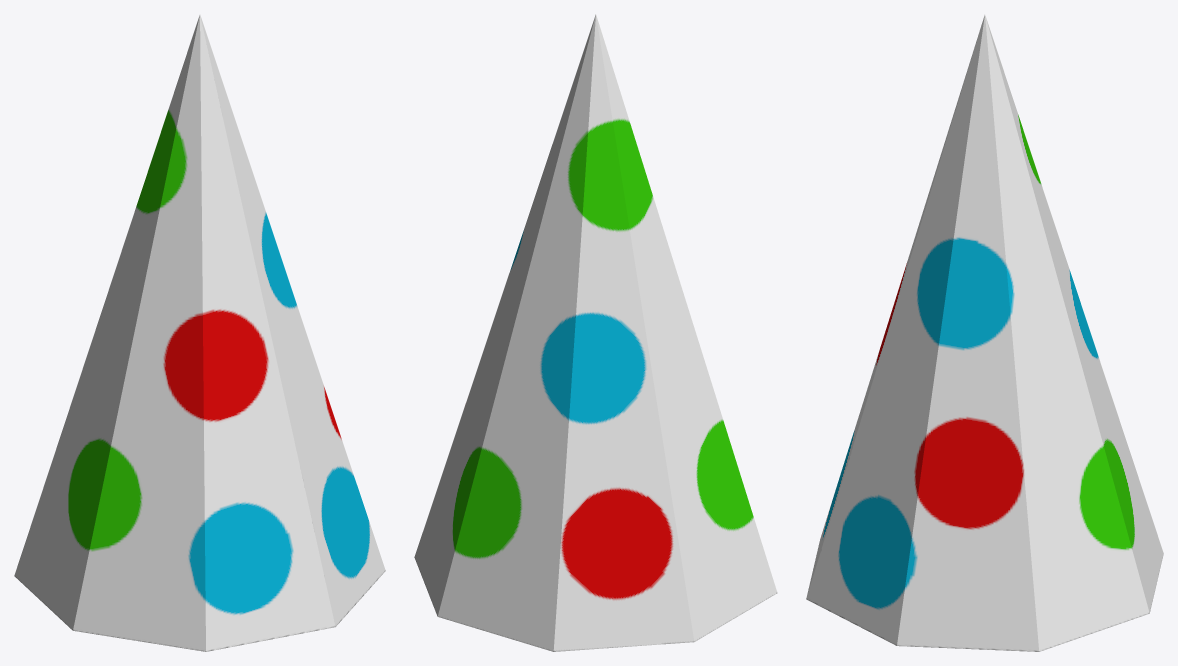
The model's file is Party Hat (Polka).fbx.
3 renders of one model, left to right at view 1: azimuth 30°, elevation 25°; view 2: azimuth 150°, elevation 25°; view 3: azimuth 270°, elevation 25°, orthographic.
Parts seen in each view (by area): view 1: Cone; view 2: Cone; view 3: Cone.
Boxes of the visible parts, box(x1,y1,x2,y2) form: Cone: box(14, 14, 385, 651); Cone: box(414, 14, 777, 651); Cone: box(806, 15, 1163, 651).
Bounding box in the file's own units: 115 × 200 × 115.
